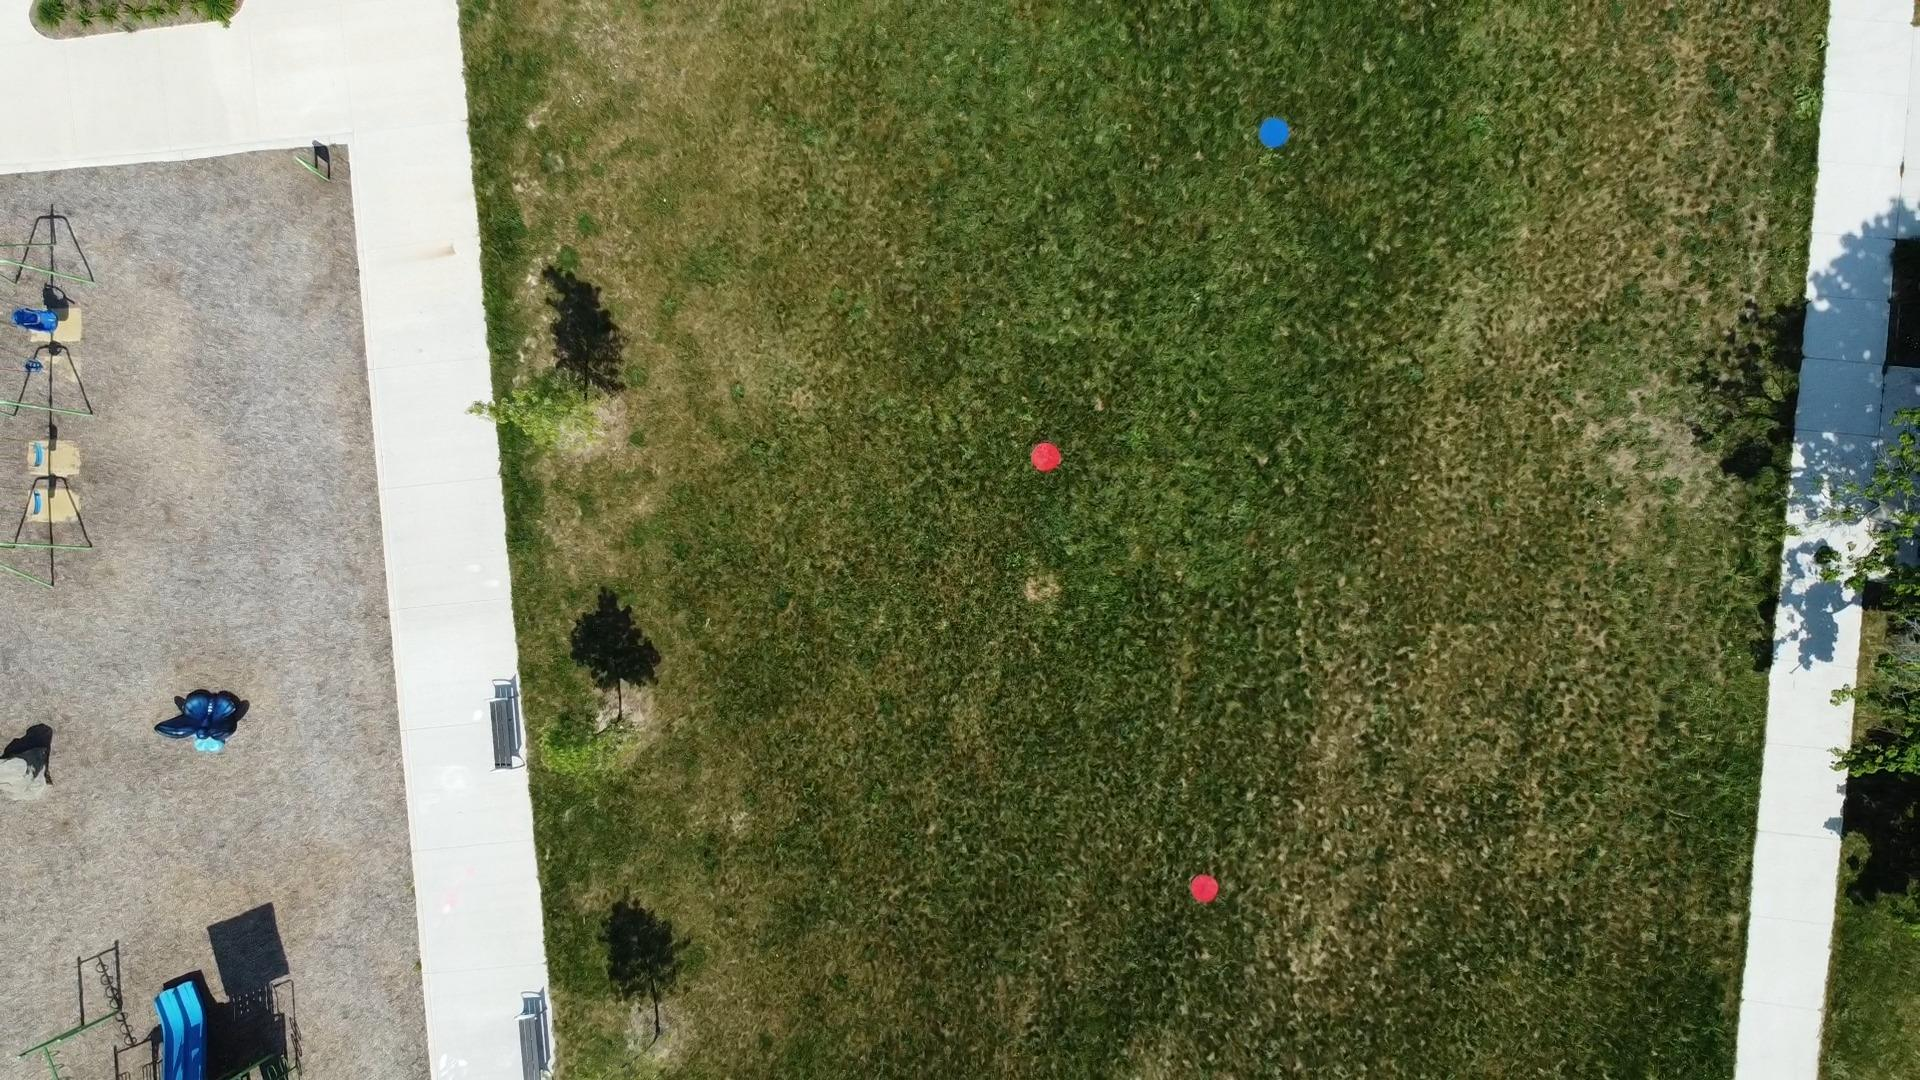Blue: (1258, 119, 1289, 150)
Red: (1030, 442, 1062, 473), (1188, 873, 1220, 904)
